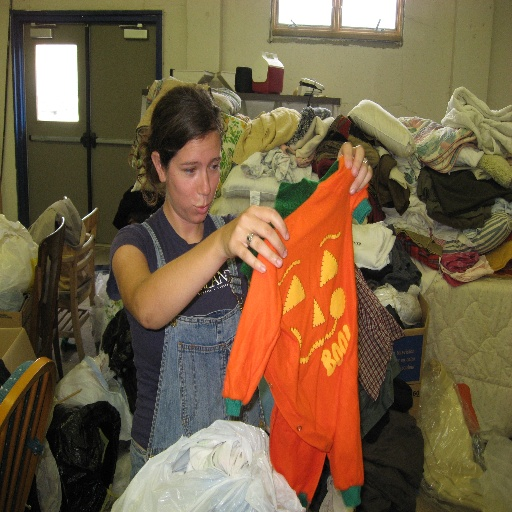hand: (218, 202, 291, 275), (335, 141, 374, 195)
